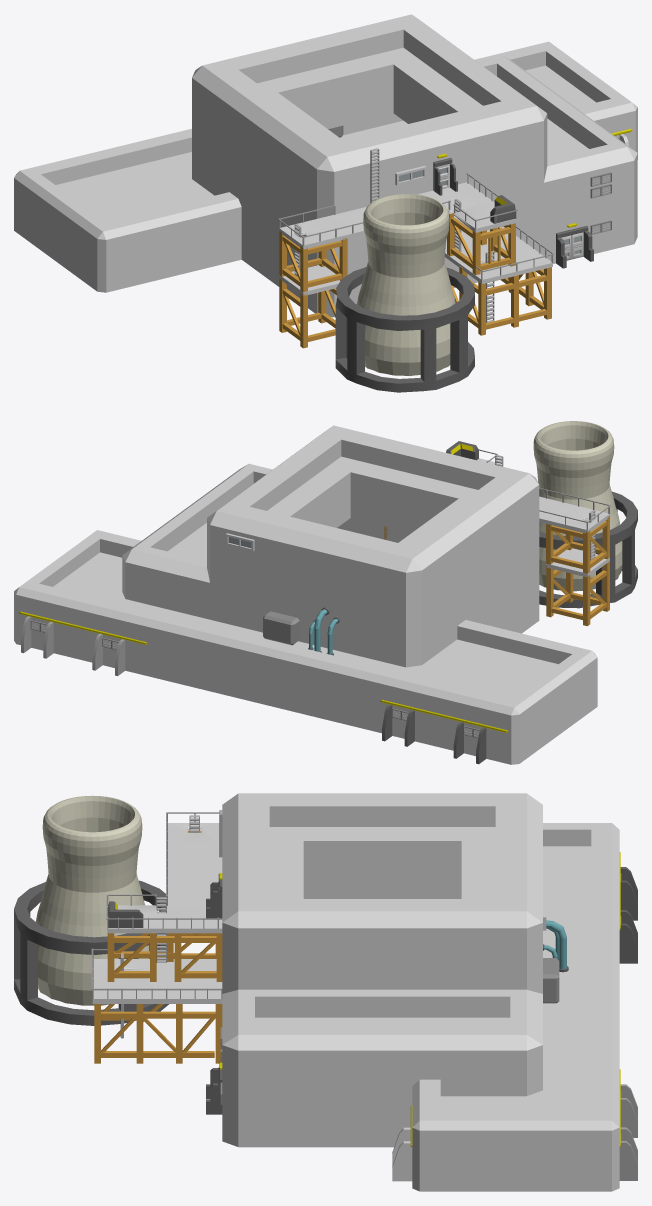
Rendered from ScienceBuilding.fbx.
3 views of the same model, one above another, from view 1: azimuth 30°, elevation 25°; view 2: azimuth 150°, elevation 25°; view 3: azimuth 270°, elevation 25° (orthographic). The views are drawn at different scales.
Visible parts, largest first — view 1: Science_Bulding; view 2: Science_Bulding; view 3: Science_Bulding.
Boxes of the visible parts, x1,y1,x2,y2 form: Science_Bulding: (14,14,637,392); Science_Bulding: (14,421,637,764); Science_Bulding: (14,793,637,1191).
Size of the model in its own units: 6208 by 1841 by 5382.
